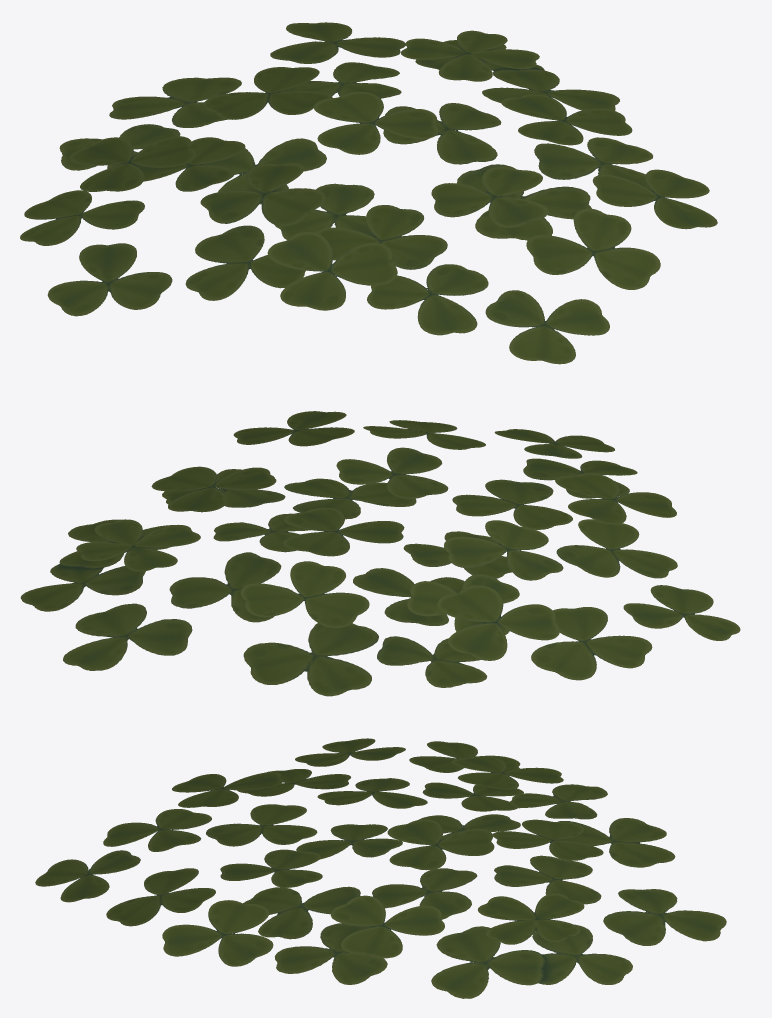
File: MSH_fwOF_Clover_02.fbx
The picture shows the model from 3 angles, top to bottom: view 1: azimuth 30°, elevation 25°; view 2: azimuth 150°, elevation 25°; view 3: azimuth 270°, elevation 25°; orthographic projection. The views are drawn at different scales.
Visible parts, largest first — view 1: MSH_fwOF_Clover_02; view 2: MSH_fwOF_Clover_02; view 3: MSH_fwOF_Clover_02.
Part boxes in pixels (x1,y1,x2,y2): MSH_fwOF_Clover_02: (20,22,717,364); MSH_fwOF_Clover_02: (20,411,740,696); MSH_fwOF_Clover_02: (35,738,726,998).
Size of the model in its own units: 0.25 by 0.0265 by 0.287.
